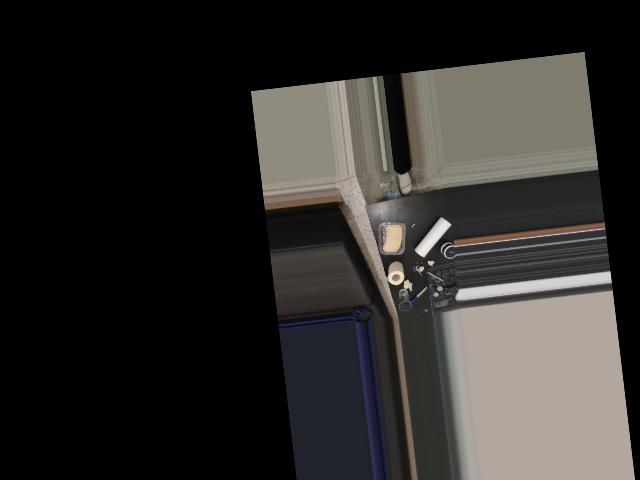cheese: (374, 216, 410, 257)
